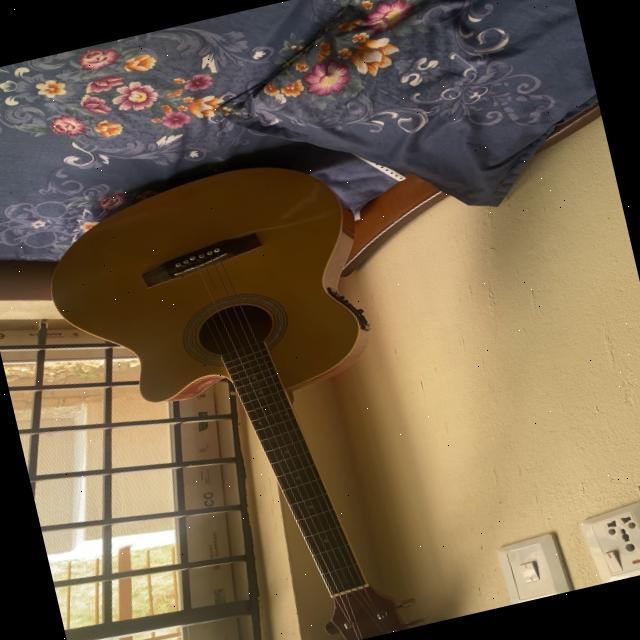guitar: (1, 138, 444, 640)
